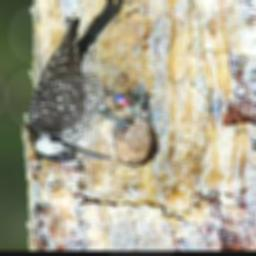Woodpecker: (25, 0, 147, 162)
